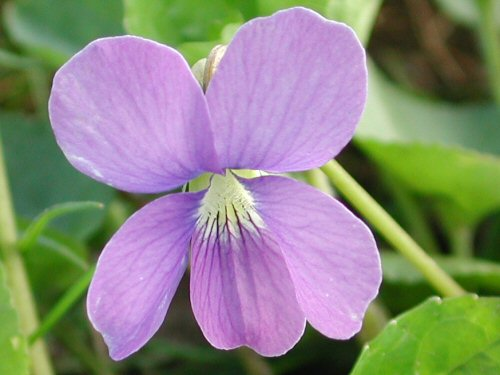violet: (42, 26, 385, 362)
